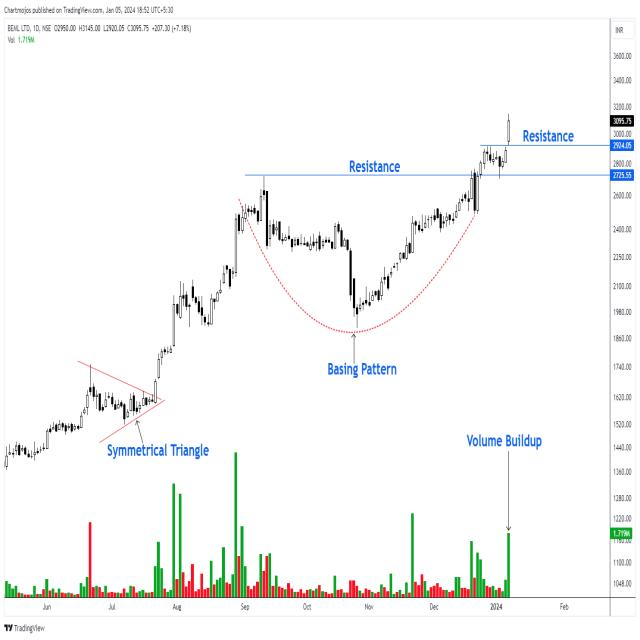Cup-and-handle: (252, 146, 513, 331)
